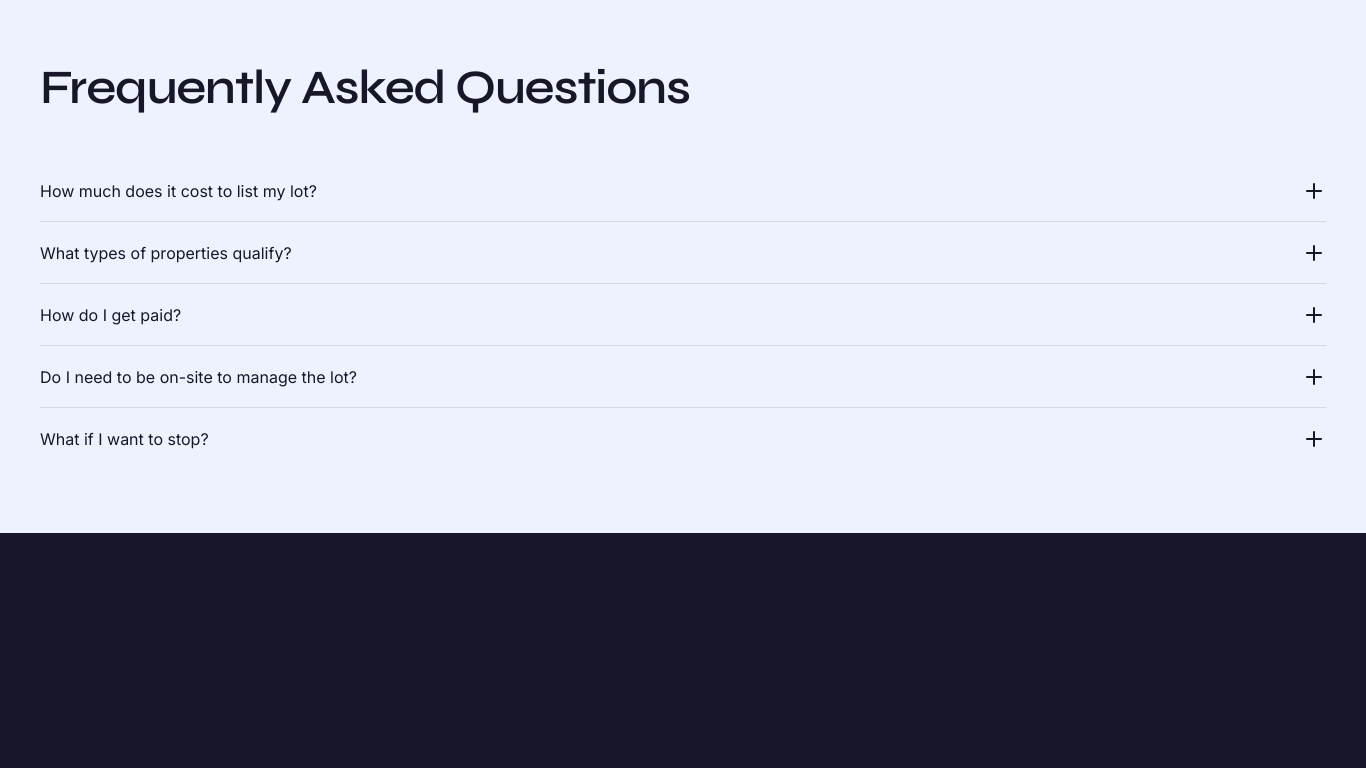
shows one static FAQ answer at a time and allows all items to close
Click the button "How much does it cost to list my lot?" at {"x": 178, "y": 190}, box [40,160,1326,221]
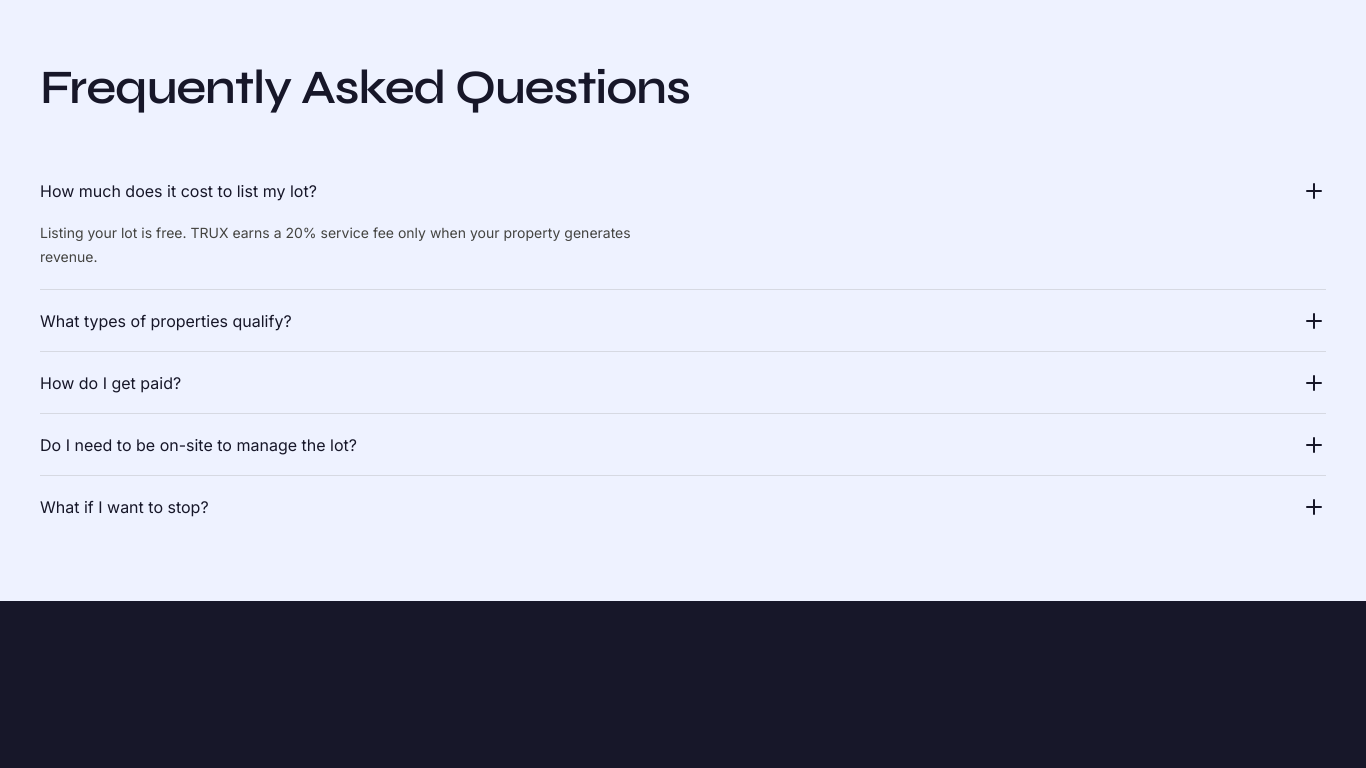
Expected: the text "Listing your lot is free. TRUX earns a 20% service fee only when your property generates revenue." is shown, [40,224,631,265]
Click the button "What types of properties qualify?" at {"x": 166, "y": 320}, box [40,290,1326,351]
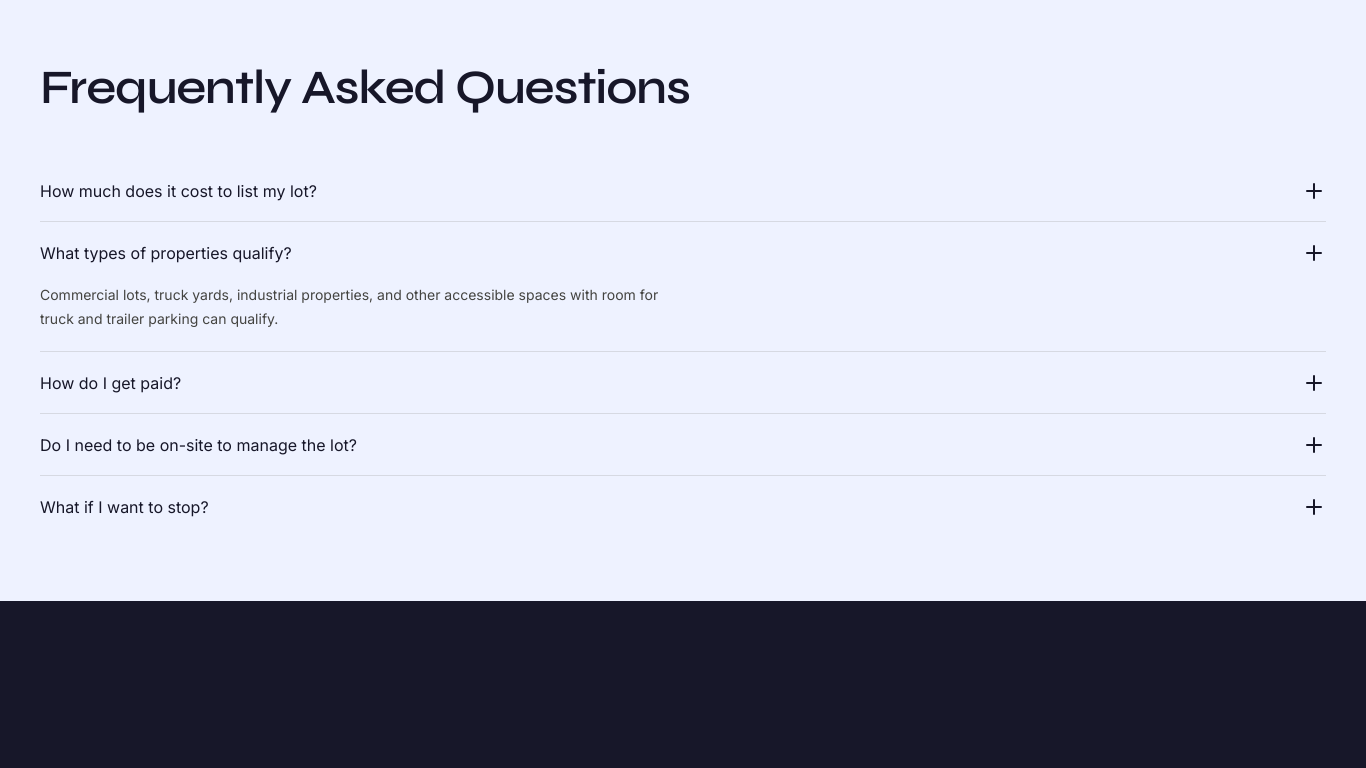
Expected: the button "What types of properties qualify?" is expanded
Expected: the text "Listing your lot is free. TRUX earns a 20% service fee only when your property generates revenue." is gone
Expected: the text "Commercial lots, truck yards, industrial properties, and other accessible spaces with room for truck and trailer parking" is shown, [40,286,658,327]
Click the button "What types of properties qualify?" at {"x": 166, "y": 252}, box [40,222,1326,283]
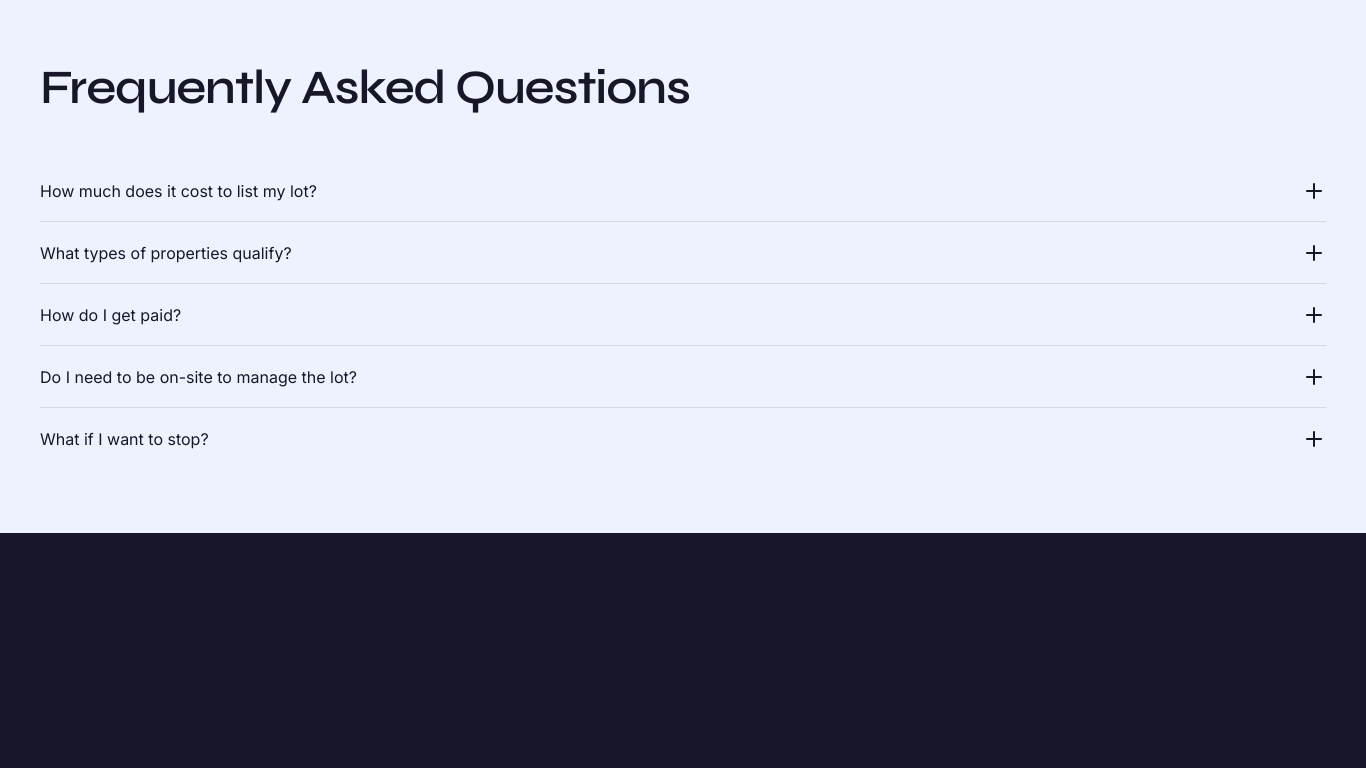
Expected: the text "Commercial lots, truck yards, industrial properties, and other accessible spaces with room for truck and trailer parking" is gone
